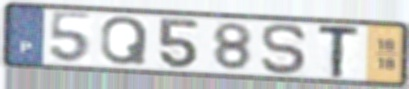5: (47, 9, 95, 66), (156, 15, 202, 71)
8: (208, 21, 255, 72)
Q: (98, 14, 150, 67)
S: (259, 21, 311, 77)
T: (316, 24, 363, 80)
